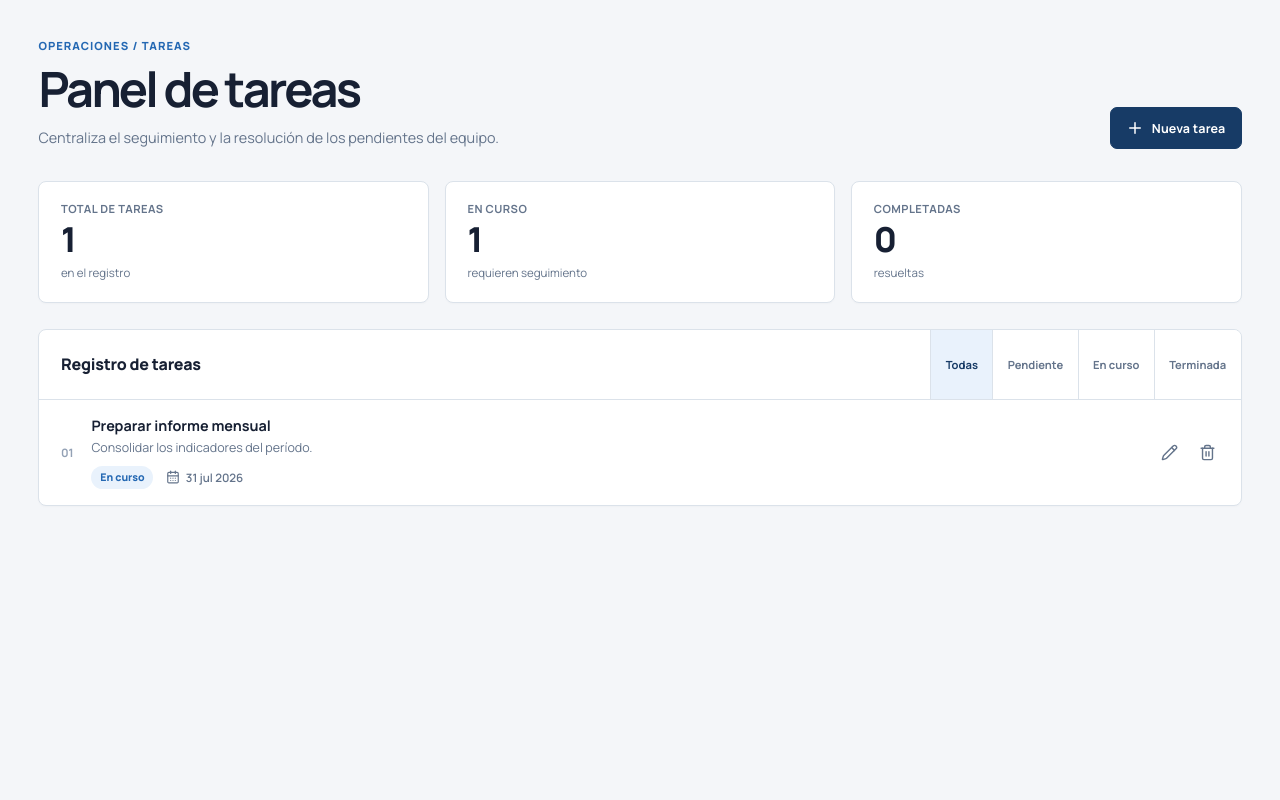
Test: DashboardPage › abre el modal con los datos existentes para editar
The width and height of the screenshot is (1280, 800).
Click the button named "Editar Preparar informe mensual".
click(1170, 452)  # box top-left (1153, 436), bottom-right (1187, 470)
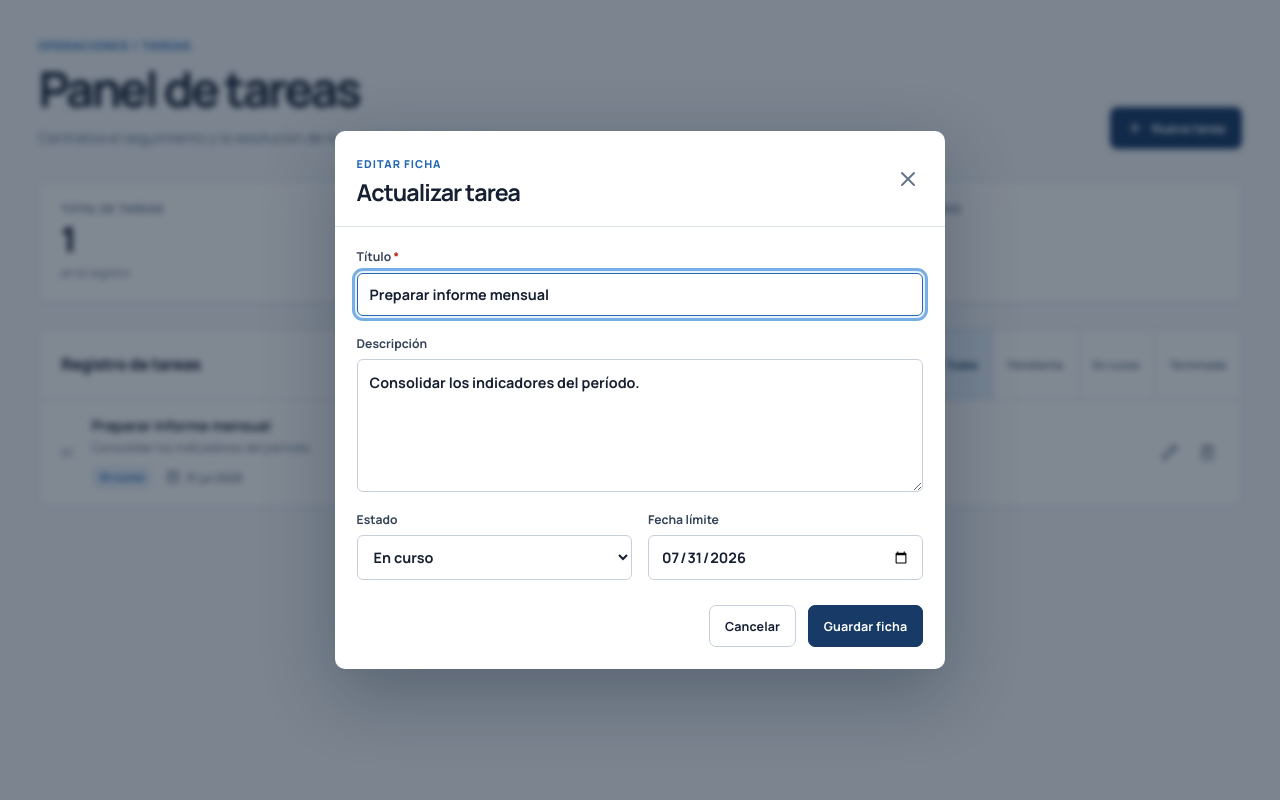
Now the dialog "Actualizar tarea" is shown, box top-left (335, 131), bottom-right (945, 669)
Now the field labelled "Título" holds "Preparar informe mensual", box top-left (357, 273), bottom-right (923, 316)
Now the text box labelled "Descripción" holds "Consolidar los indicadores del período.", box top-left (357, 359), bottom-right (923, 492)
